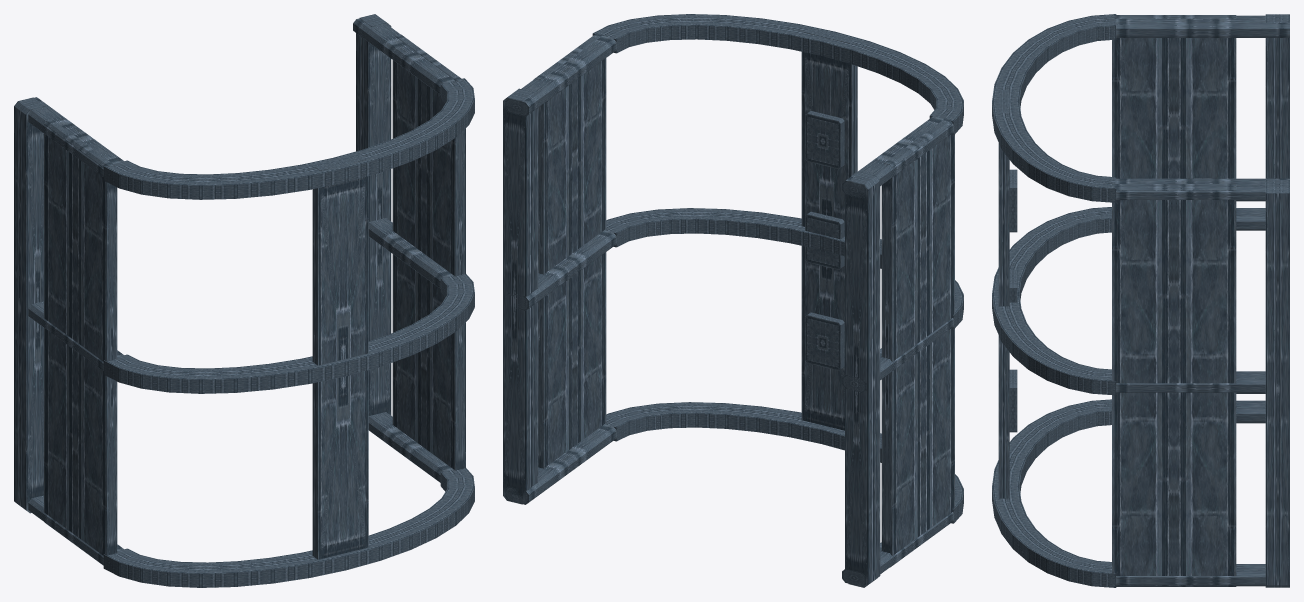
File: rv_interior_tunnel_dressing.obj
The picture shows the model from 3 angles, left to right: view 1: azimuth 30°, elevation 25°; view 2: azimuth 150°, elevation 25°; view 3: azimuth 270°, elevation 25°; orthographic projection.
Visible parts, largest first — view 1: rv_interior_tunnel_dressing; view 2: rv_interior_tunnel_dressing; view 3: rv_interior_tunnel_dressing.
Part boxes in pixels (x1,y1,x2,y2): rv_interior_tunnel_dressing: (14,14,474,587); rv_interior_tunnel_dressing: (503,14,963,587); rv_interior_tunnel_dressing: (992,14,1289,587).
Bounding box in the file's own units: 7.58 × 8 × 5.4.
1 material, 1 textured.
